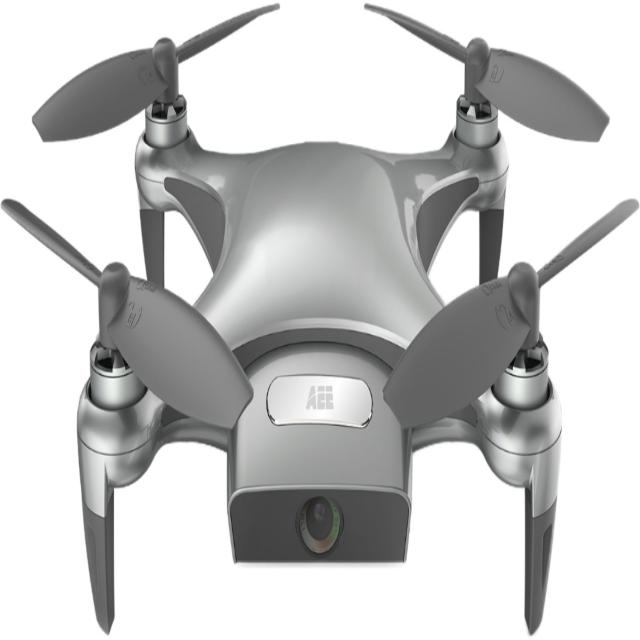drone: (22, 24, 636, 571)
